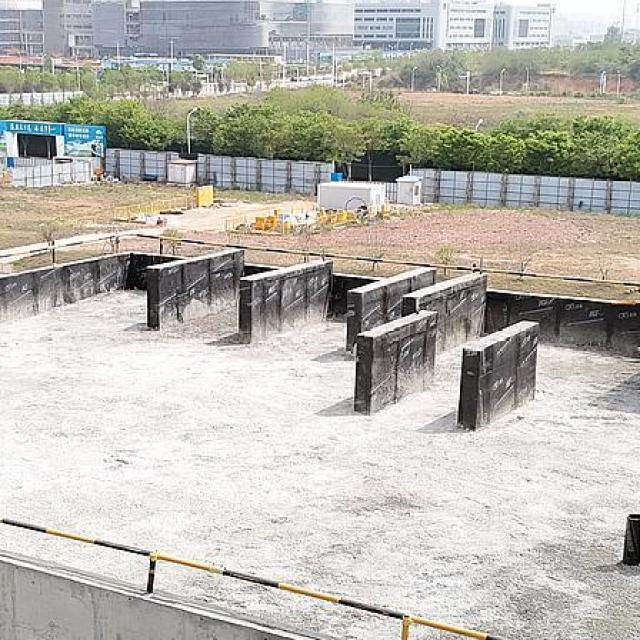edge_guardrail: (0, 514, 516, 640), (0, 231, 640, 286)
